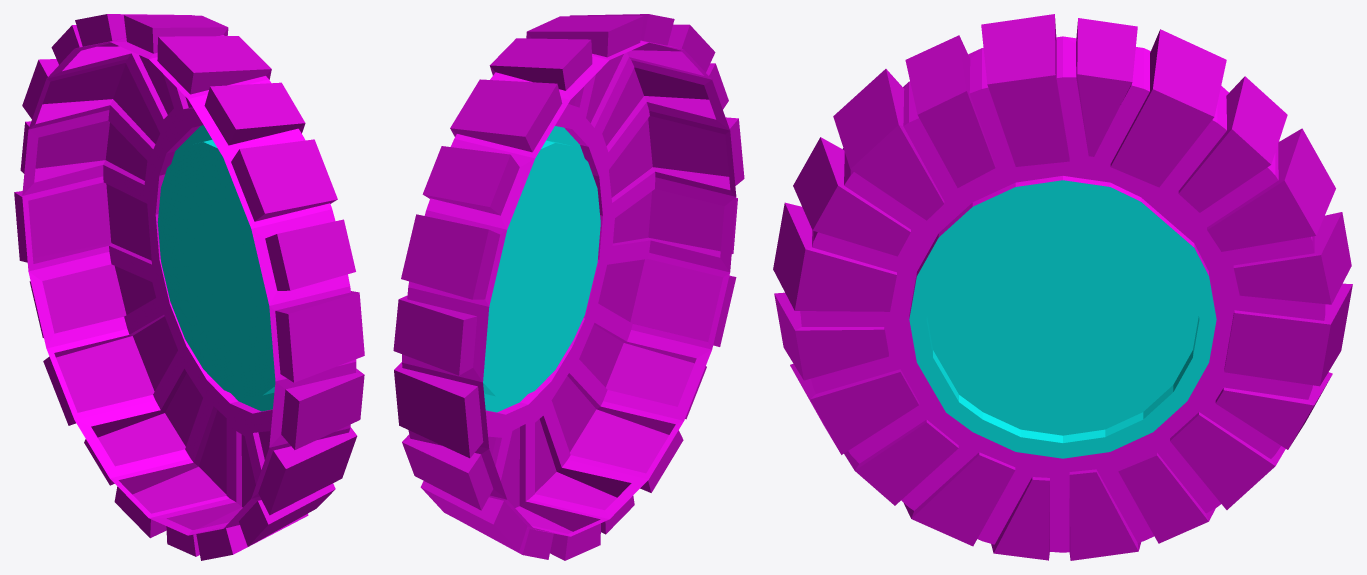
The model's file is RoundWindow1.fbx.
3 views of the same model, side by side, from view 1: azimuth 30°, elevation 25°; view 2: azimuth 150°, elevation 25°; view 3: azimuth 270°, elevation 25° (orthographic). The views are drawn at different scales.
Visible parts, largest first — view 1: RoundWindow1; view 2: RoundWindow1; view 3: RoundWindow1.
Boxes of the visible parts, <box> form: RoundWindow1: <box>14,14,364,560</box>; RoundWindow1: <box>393,14,744,560</box>; RoundWindow1: <box>773,14,1352,560</box>.
Size of the model in its own units: 0.4092 by 2.21 by 2.21.
